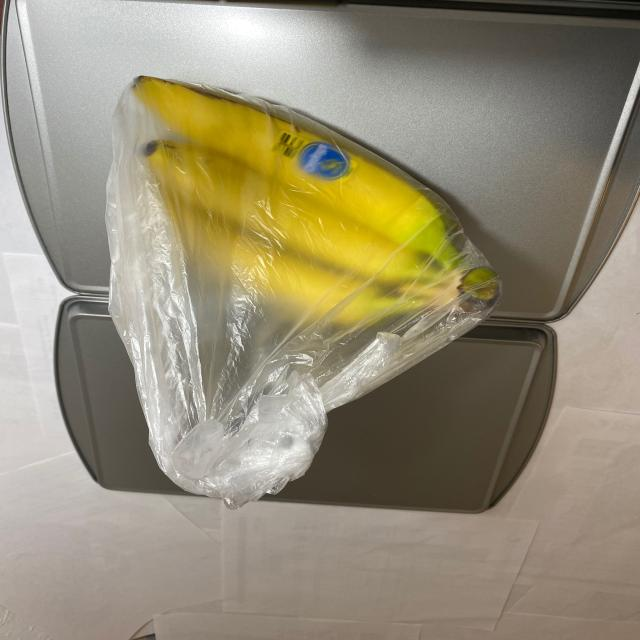banana: (97, 63, 530, 378)
